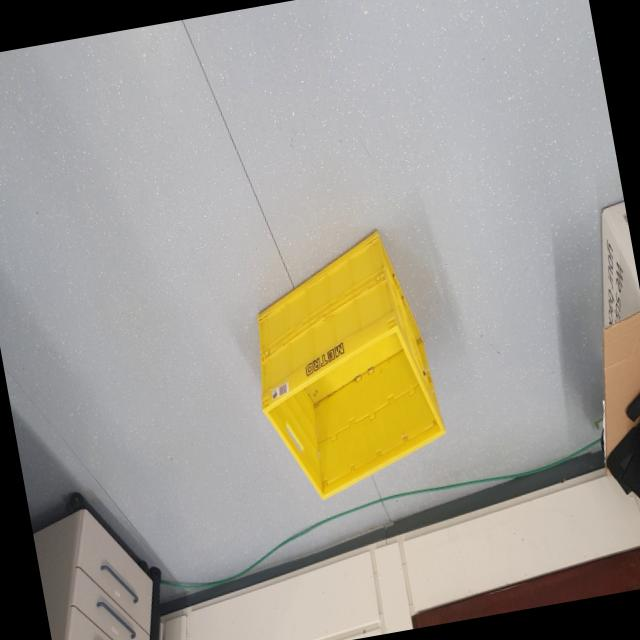box: (227, 208, 463, 513)
